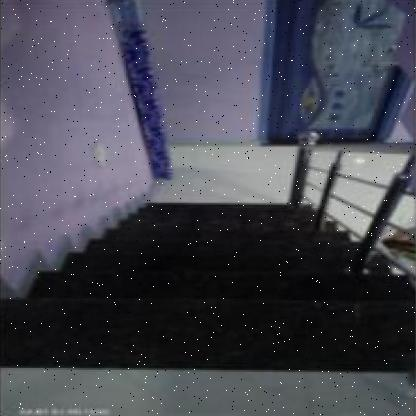stair_down: (41, 216, 338, 355)
